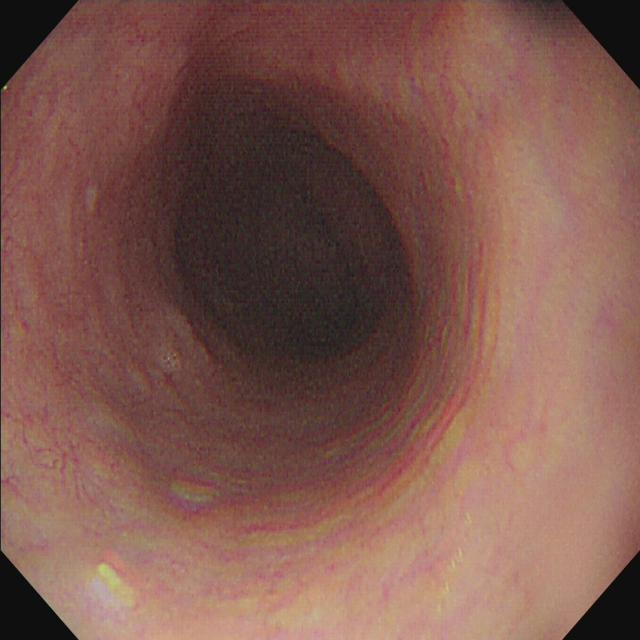E: (178, 122, 416, 361)
